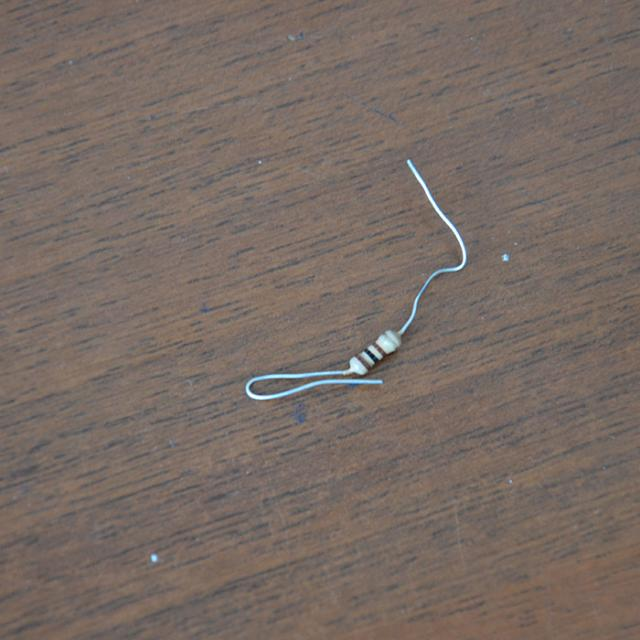black: (365, 347, 377, 362)
brown: (355, 353, 369, 369), (372, 341, 386, 356)
gold: (382, 331, 398, 348)
resistor: (342, 325, 409, 377)
